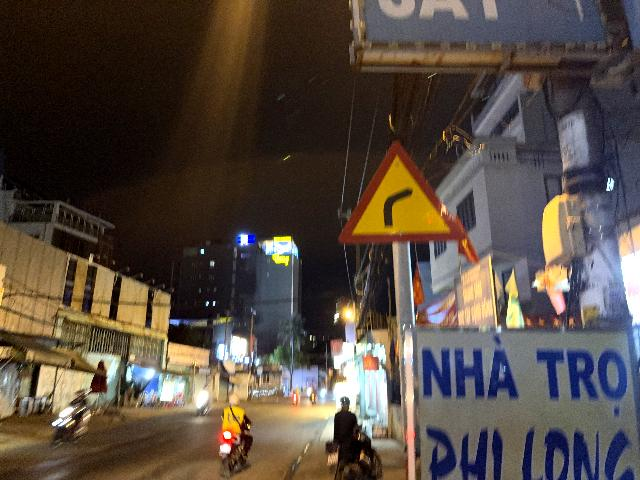cho-ngoat-nguy-hiem-ben-phai: (339, 138, 465, 245)
